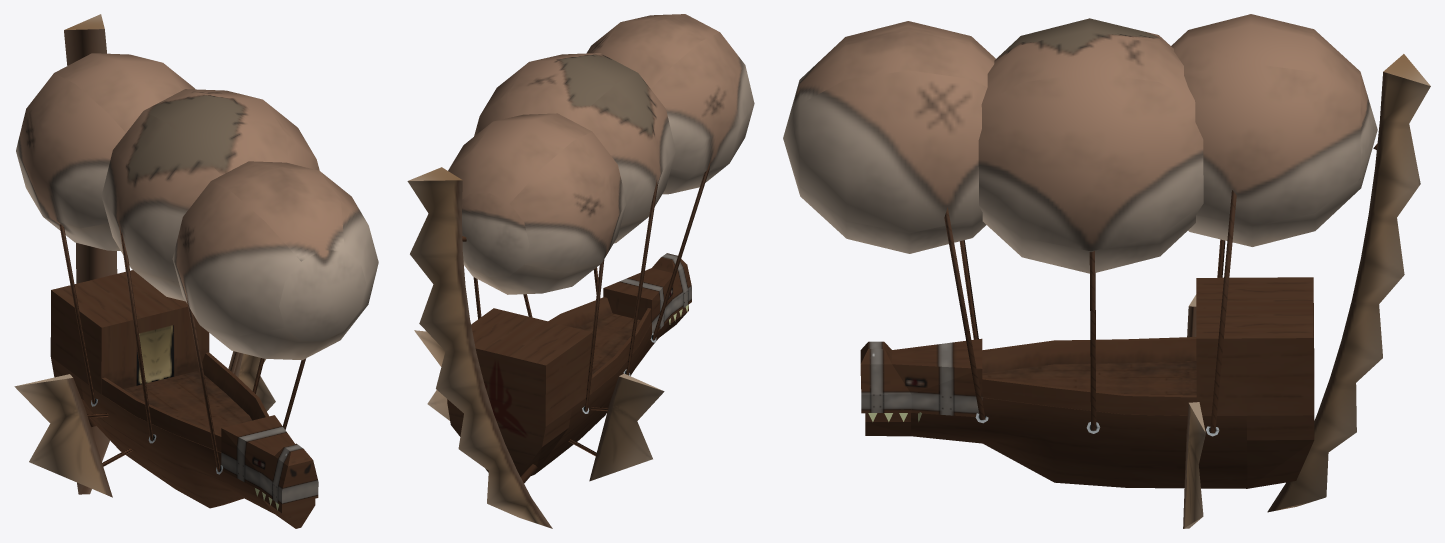
Rendered from enemy1_final1.FBX.
3 renders of one model, left to right at view 1: azimuth 30°, elevation 25°; view 2: azimuth 150°, elevation 25°; view 3: azimuth 270°, elevation 25°, orthographic. The views are drawn at different scales.
Parts seen in each view (by area): view 1: Sphere003, Box001, Cylinder007, Cylinder006, Cylinder017, Cylinder001, Cylinder013, Cylinder012; view 2: Sphere003, Box001, Cylinder006, Cylinder007, Cylinder001, Cylinder012, Cylinder017, Cylinder013; view 3: Sphere003, Box001, Cylinder006, Cylinder017, Cylinder016, Cylinder015, Cylinder014.
Part boxes in pixels (x1=…): Sphere003: x1=16, y1=53, x2=378, y2=360; Box001: x1=50, y1=270, x2=318, y2=528; Cylinder007: x1=14, y1=374, x2=132, y2=497; Cylinder006: x1=64, y1=14, x2=117, y2=494; Cylinder017: x1=228, y1=351, x2=275, y2=411; Cylinder001: x1=119, y1=227, x2=156, y2=443; Cylinder013: x1=59, y1=224, x2=97, y2=406; Cylinder012: x1=186, y1=298, x2=222, y2=474; Sphere003: x1=448, y1=14, x2=754, y2=294; Box001: x1=447, y1=253, x2=691, y2=476; Cylinder006: x1=407, y1=167, x2=552, y2=528; Cylinder007: x1=568, y1=373, x2=664, y2=481; Cylinder001: x1=623, y1=180, x2=658, y2=375; Cylinder012: x1=650, y1=161, x2=710, y2=342; Cylinder017: x1=414, y1=330, x2=449, y2=420; Cylinder013: x1=582, y1=259, x2=604, y2=413; Sphere003: x1=783, y1=14, x2=1377, y2=273; Box001: x1=860, y1=277, x2=1314, y2=488; Cylinder006: x1=1267, y1=54, x2=1430, y2=512; Cylinder017: x1=1183, y1=402, x2=1205, y2=528; Cylinder016: x1=1206, y1=190, x2=1236, y2=436; Cylinder015: x1=944, y1=207, x2=988, y2=423; Cylinder014: x1=1086, y1=251, x2=1100, y2=433.
Size of the model in its own units: 86.04 by 132 by 152.
Materials: 1 (1 with a texture image).
